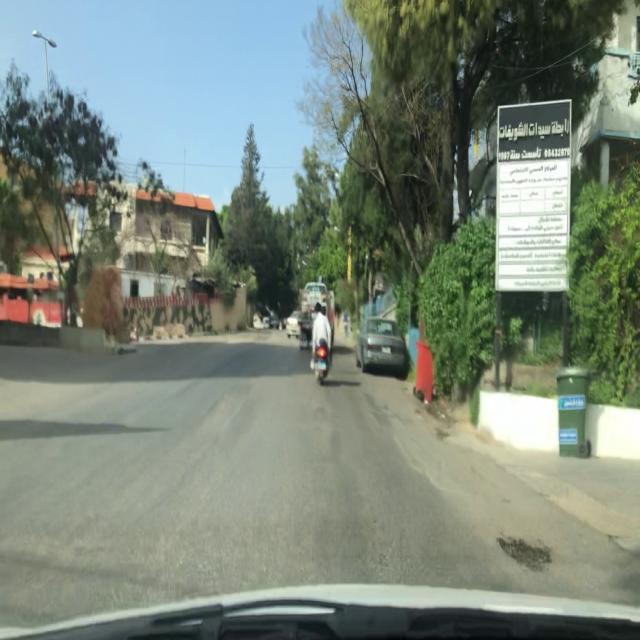Pothole: (491, 525, 560, 576)
